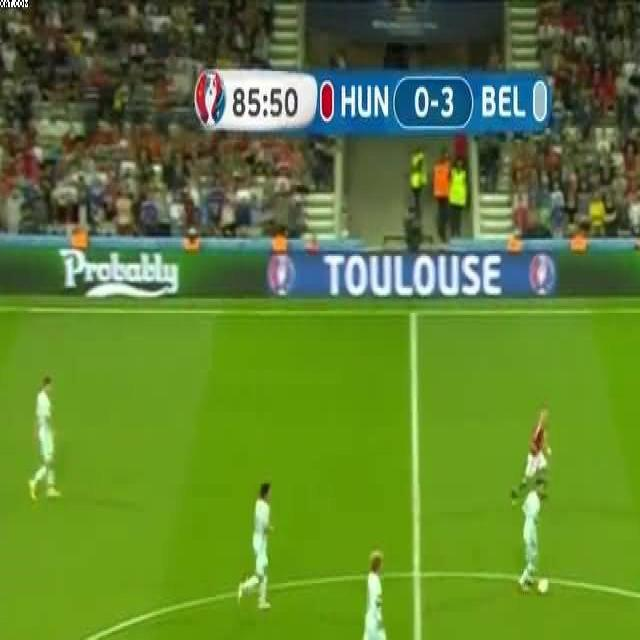ball: (537, 577, 549, 595)
player-white: (236, 479, 276, 612), (347, 549, 392, 640), (30, 378, 60, 500), (514, 401, 551, 497), (516, 480, 544, 594)
